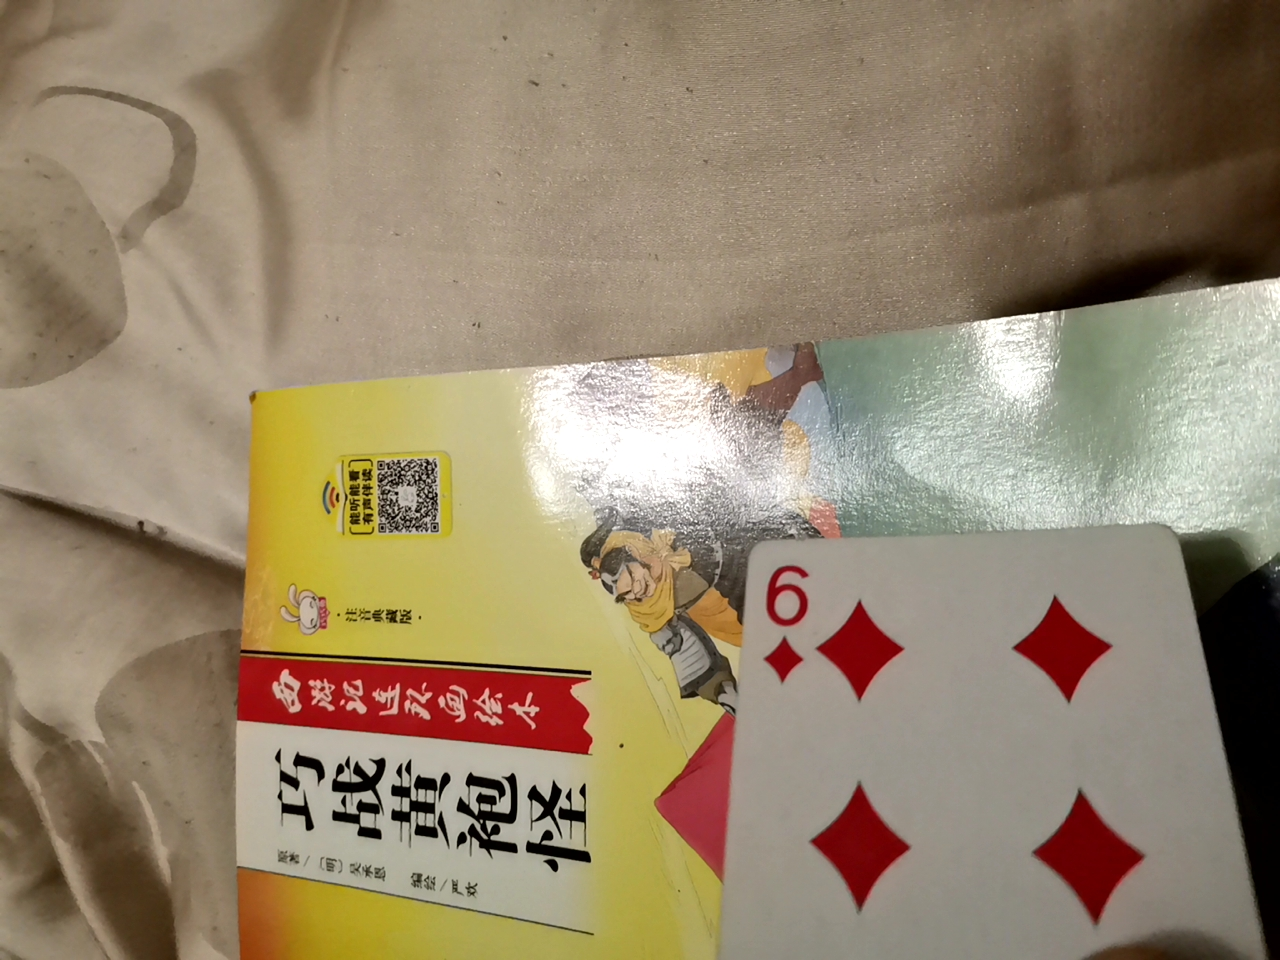fk 6: (698, 511, 1257, 954)
